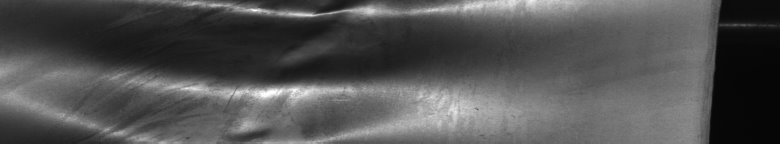ke: (52, 4, 517, 136)
